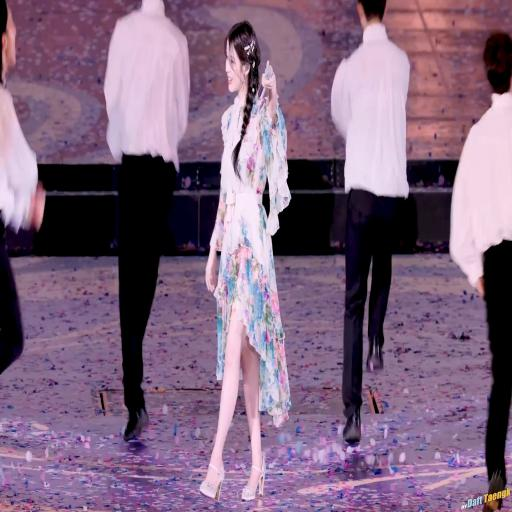IU: (224, 19, 261, 97)
